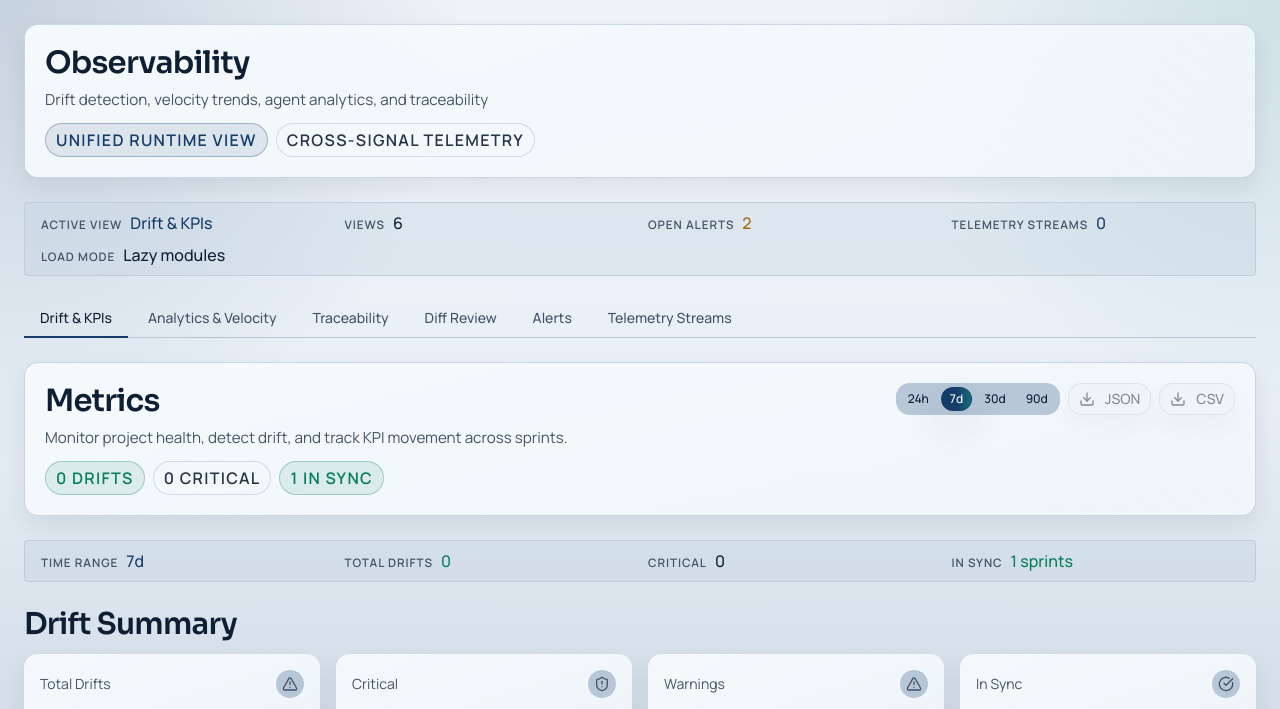
Scenario: ObservabilityPage › clicking Alerts tab shows alert feed heading
Click the tab "Alerts".
click(552, 319)  # box [517,300,588,338]
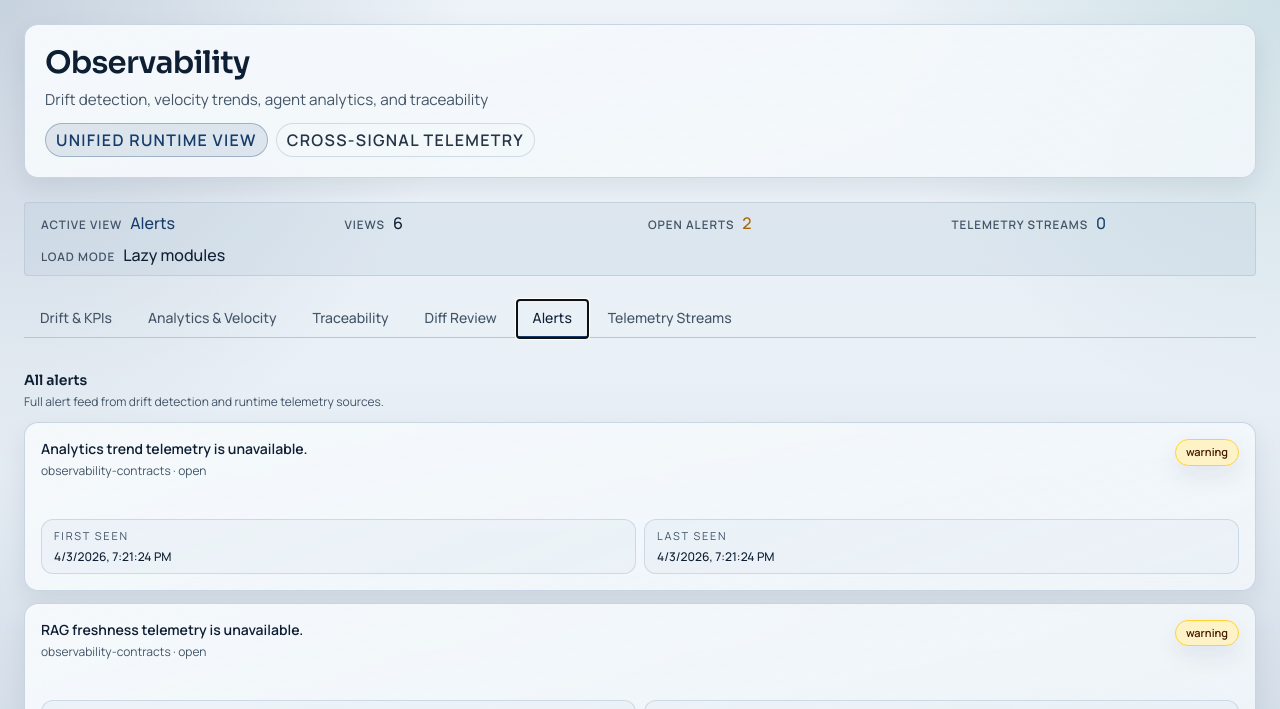
Check: the heading "All alerts" is shown, box [24,371,87,389]
